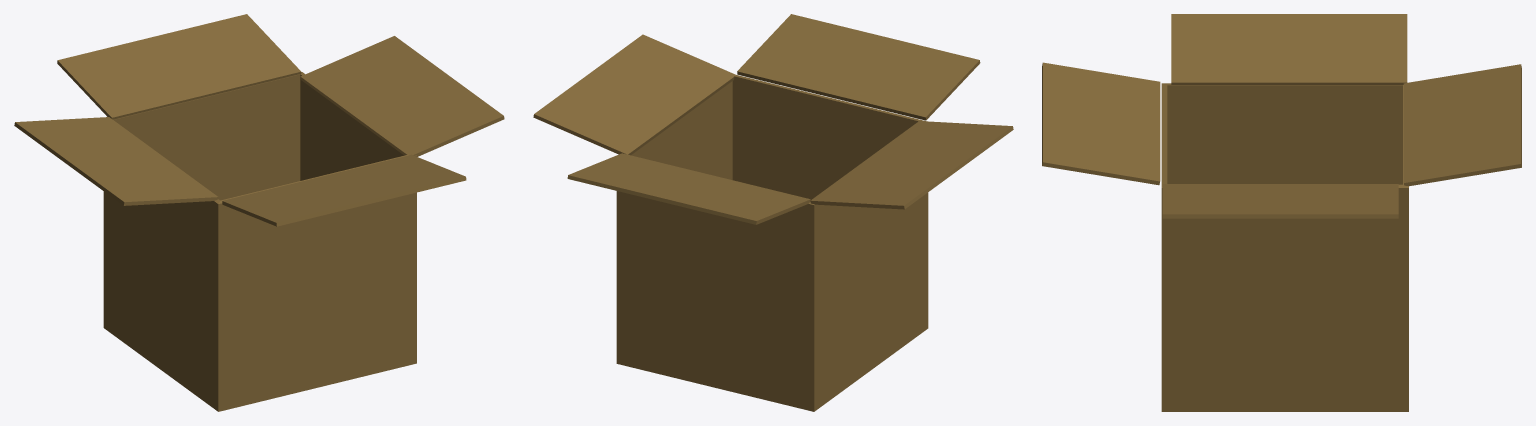
Rendered from kardus kebuka.fbx.
3 renders of one model, left to right at view 1: azimuth 30°, elevation 25°; view 2: azimuth 150°, elevation 25°; view 3: azimuth 270°, elevation 25°, orthographic. The views are drawn at different scales.
Visible parts, largest first — view 1: Cube.005; view 2: Cube.005; view 3: Cube.005.
Part boxes in pixels (x1,y1,x2,y2): Cube.005: (14,14,504,411); Cube.005: (533,14,1013,411); Cube.005: (1042,14,1521,411).
Size of the model in its own units: 380 by 220 by 388.
